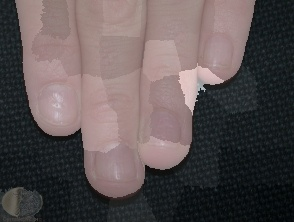Nail_psoriasis: (77, 125, 154, 204), (29, 72, 87, 134), (138, 101, 191, 157), (196, 24, 242, 76)
